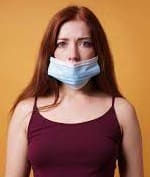with_incorrect_mask: (51, 24, 99, 89)
